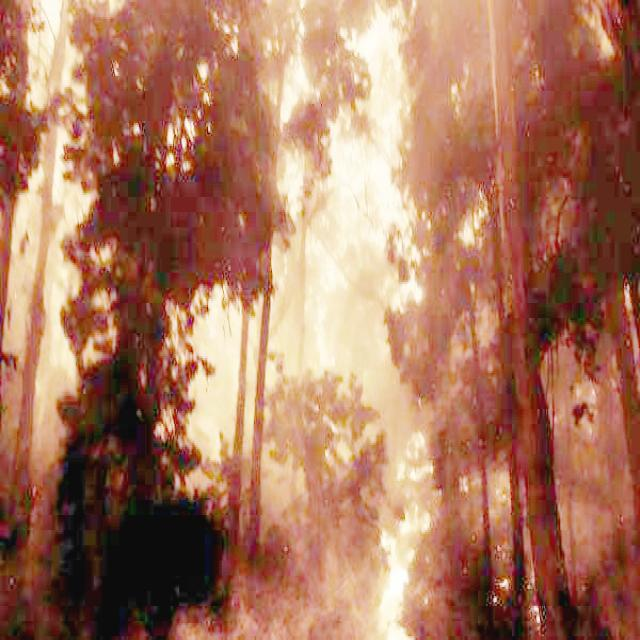api: (374, 524, 416, 640)
